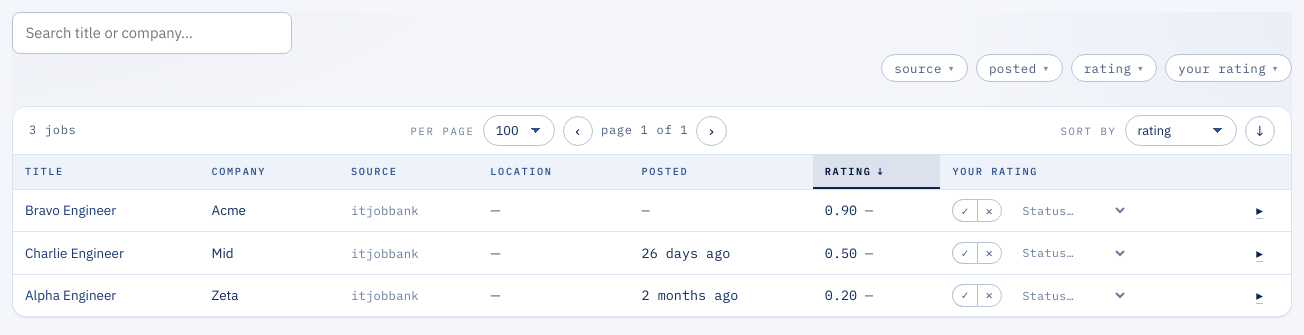
it: rating window › exposes both bounds as labelled sliders
The image size is (1304, 335).
Click the button "rating ▾".
click(1114, 68)  # box x1=1071 y1=54 x2=1157 y2=82
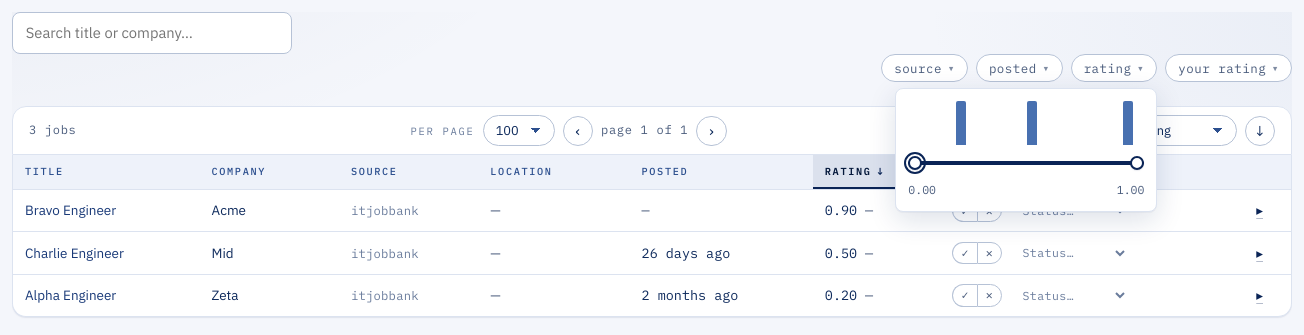
Expected: the slider named "maximum rating" is shown, x1=908 y1=153 x2=1144 y2=173
